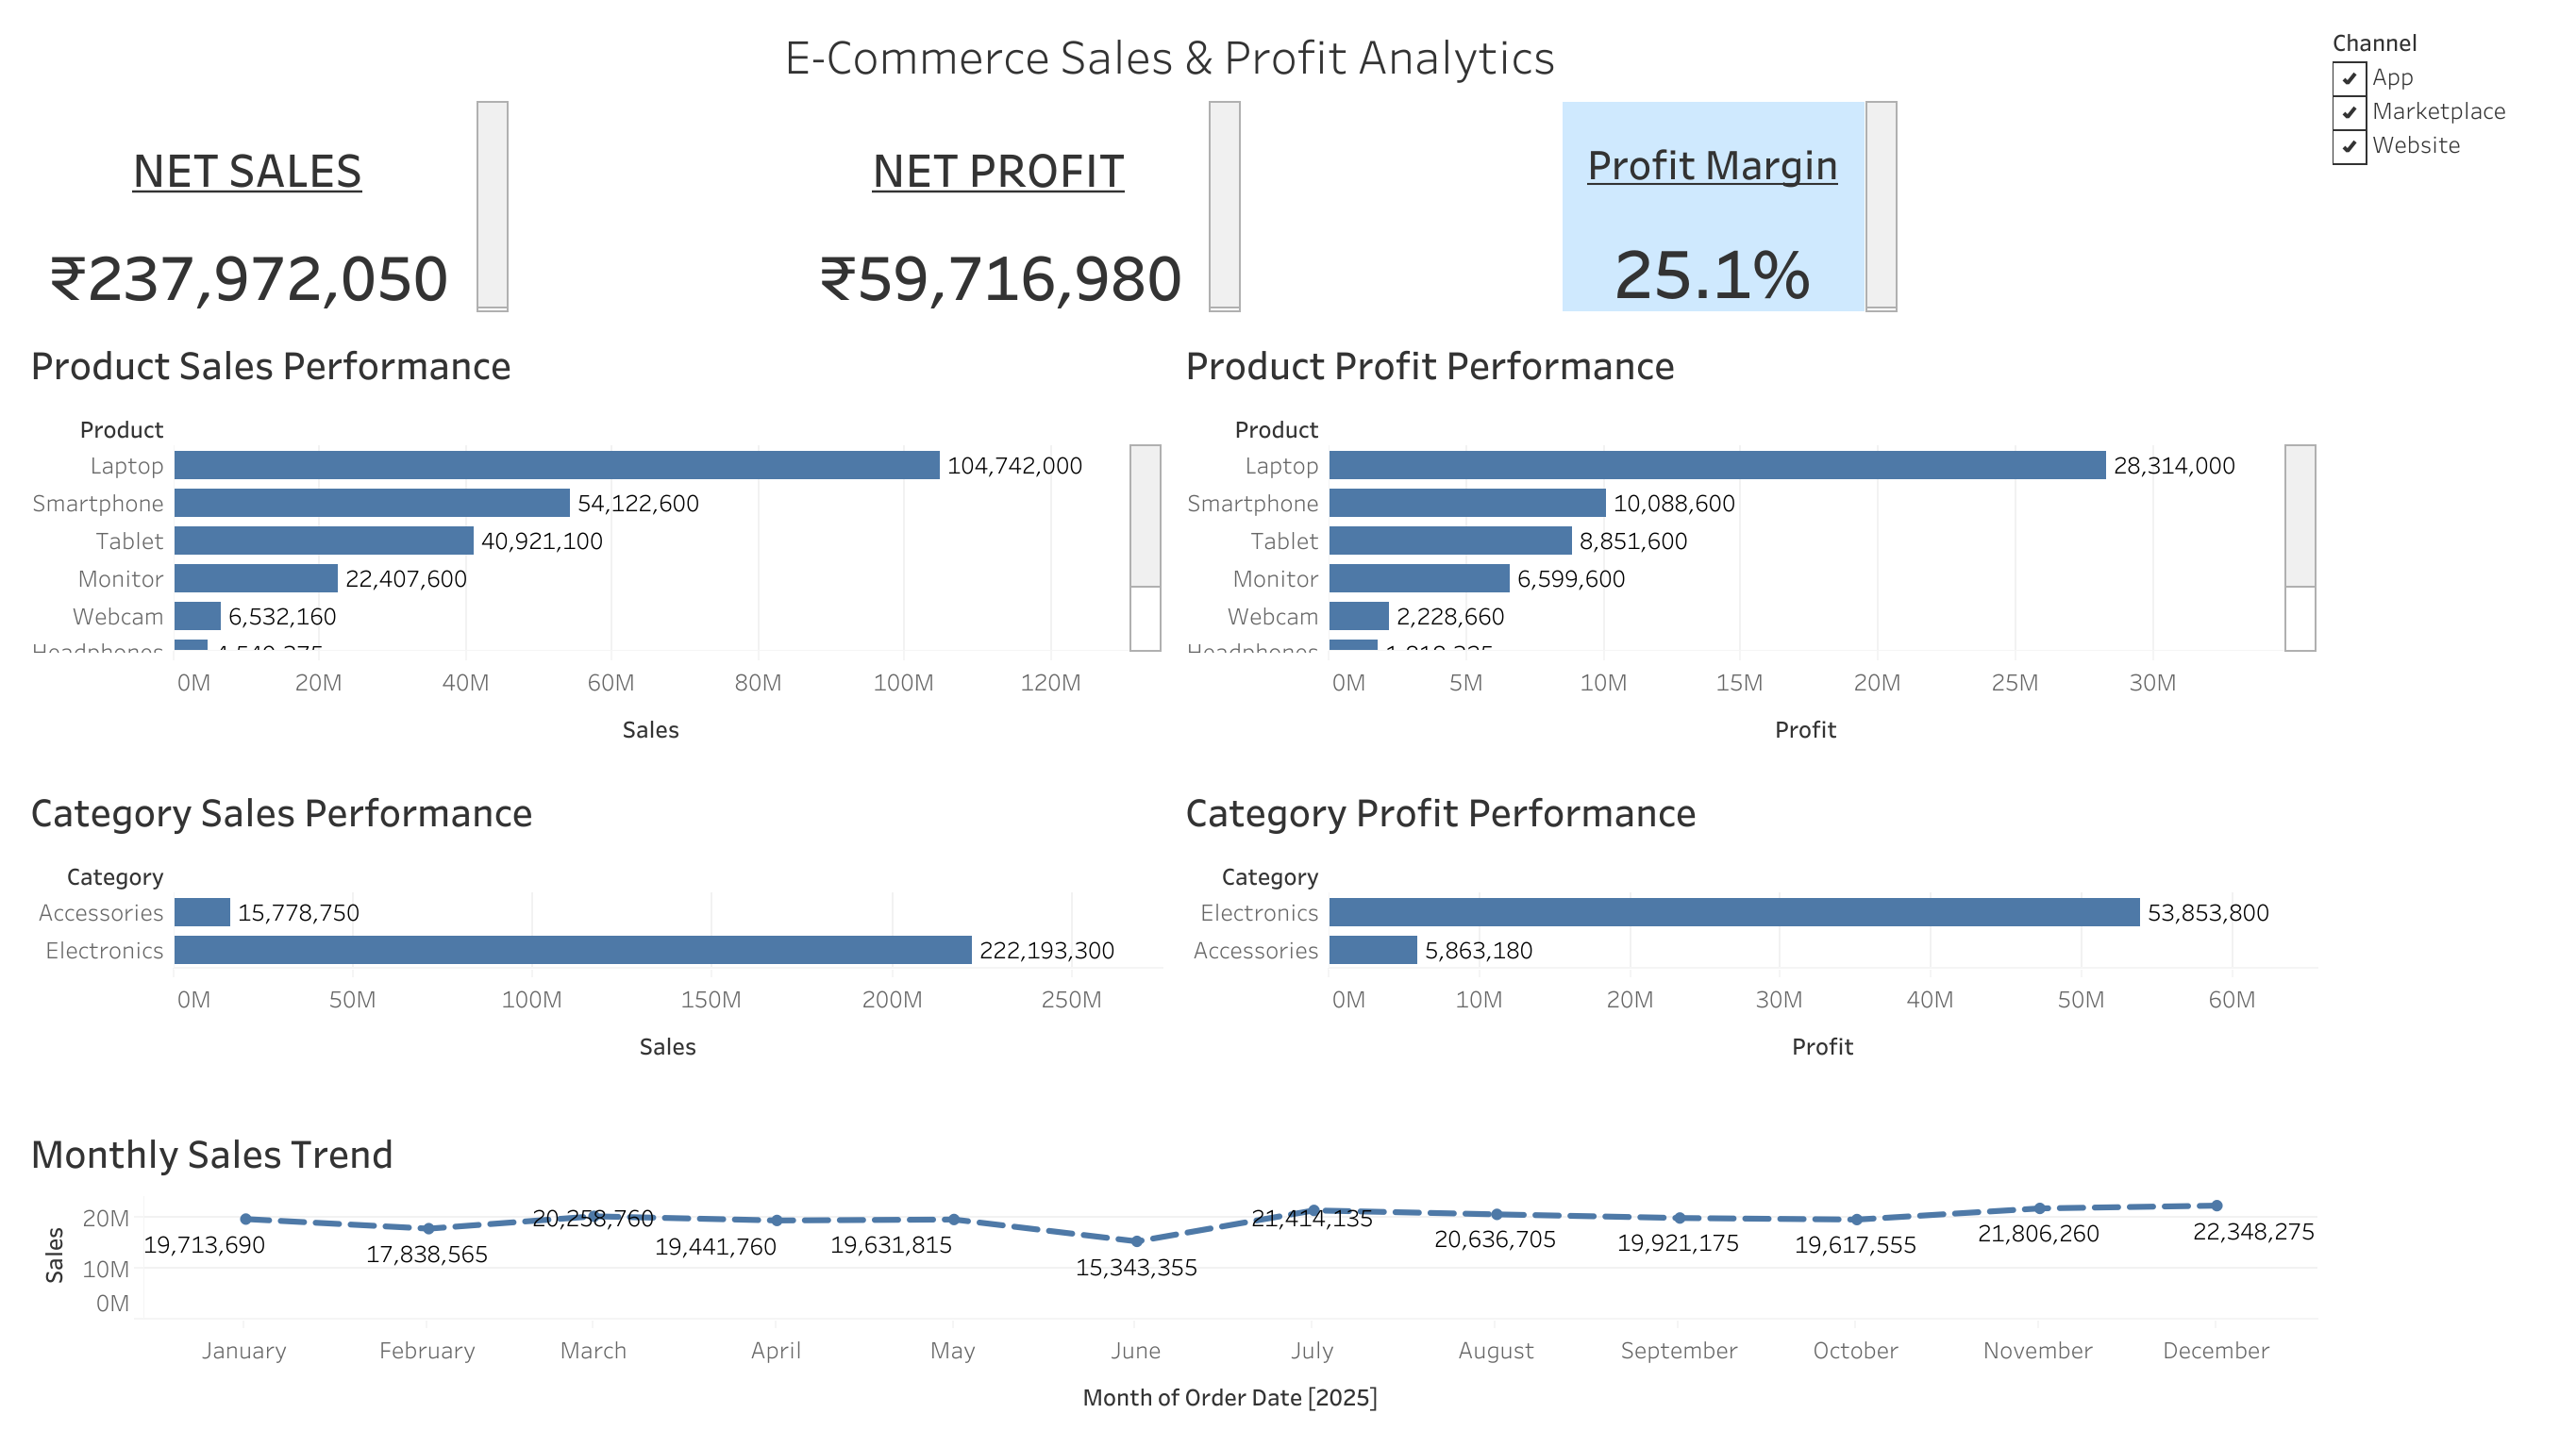

Layout of this report page (visuals, bound fields, positions):
{"tool":"tableau","page":{"name":"E-Commerce Sales & Profit Dashboard","canvas":[1366,768],"ordinal":0},"visuals":[{"type":"title","box":[8,8,1224,42]},{"type":"filter","title":"Product Sales Performance","param":"[federated.08shzpx1juij9s13h9bwi0va19or].[none:Channel:nk]","box":[1232,8,126,113]},{"type":"worksheet","title":"KPI - Net Sales","mark":"Automatic","box":[8,50,408,119]},{"type":"worksheet","title":"KPI - Net Profit","mark":"Automatic","box":[416,50,408,119]},{"type":"worksheet","title":"KPI - Profit Margin","mark":"Automatic","box":[824,50,408,119]},{"type":"worksheet","title":"Product Sales Performance","mark":"Automatic","rows":["Product"],"cols":["Sales"],"box":[8,169,612,237]},{"type":"worksheet","title":"Product Profit Performance","mark":"Automatic","rows":["Product"],"cols":["Profit"],"box":[620,169,612,237]},{"type":"worksheet","title":"Category Sales Performance","mark":"Automatic","rows":["Category"],"cols":["Sales"],"box":[8,406,612,181]},{"type":"worksheet","title":"Category Profit Performance","mark":"Automatic","rows":["Category"],"cols":["Profit"],"box":[620,406,612,181]},{"type":"worksheet","title":"Monthly Sales Trend","mark":"Automatic","rows":["Sales"],"cols":["Order_Date"],"box":[8,587,1224,173]}]}

Visuals, with their boxes in screenshot pixels (x1, y1, x2, y2), scaled from the page's 1366x768 canvas onto the 2576x1447 screenshot:
title: 15 15 2323 94
"Product Sales Performance" filter: 2323 15 2561 228
"KPI - Net Sales" worksheet: 15 94 784 319
"KPI - Net Profit" worksheet: 784 94 1554 319
"KPI - Profit Margin" worksheet: 1554 94 2323 319
"Product Sales Performance" worksheet: 15 319 1169 765
"Product Profit Performance" worksheet: 1169 319 2323 765
"Category Sales Performance" worksheet: 15 765 1169 1106
"Category Profit Performance" worksheet: 1169 765 2323 1106
"Monthly Sales Trend" worksheet: 15 1106 2323 1432
